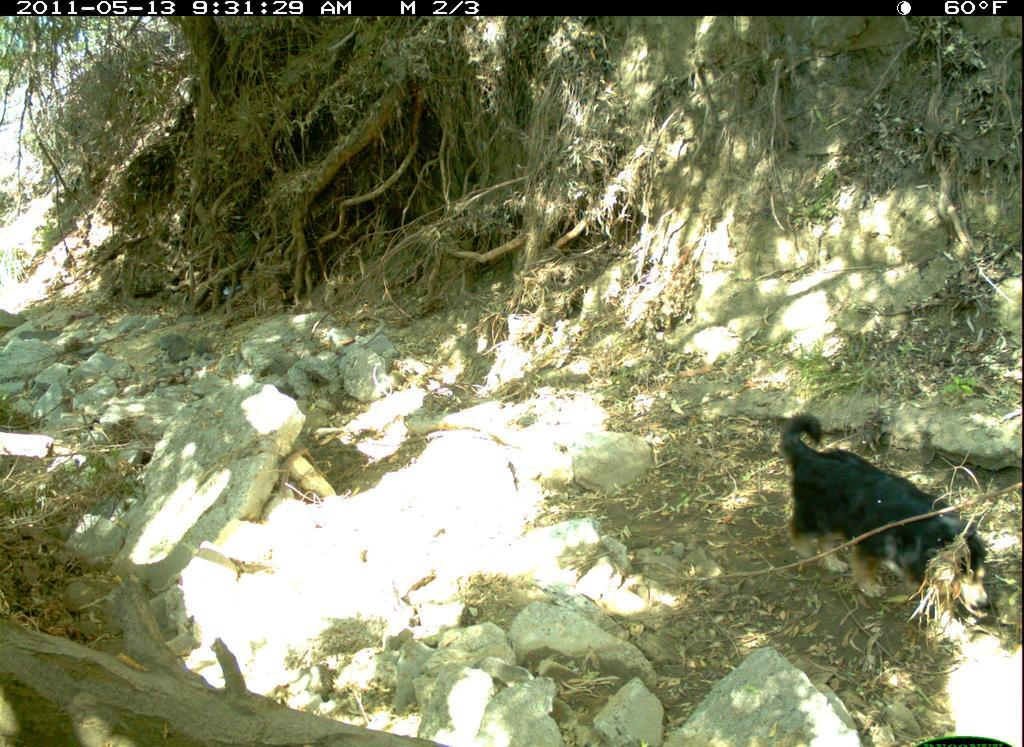dog: (761, 405, 1000, 626)
